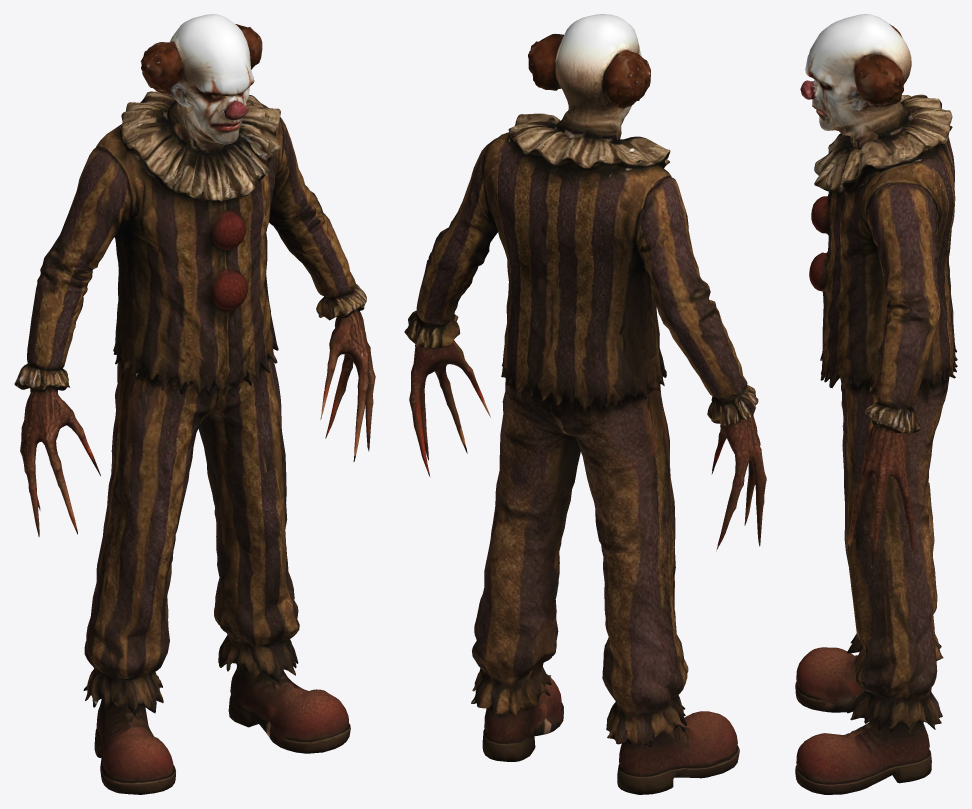
The model's file is Jocker.fbx.
3 renders of one model, left to right at view 1: azimuth 30°, elevation 25°; view 2: azimuth 150°, elevation 25°; view 3: azimuth 270°, elevation 25°, orthographic.
Visible parts, largest first — view 1: jocker; view 2: jocker; view 3: jocker.
Boxes of the visible parts, box(x1,y1,x2,y2) form: jocker: box(14, 14, 375, 794); jocker: box(404, 14, 766, 794); jocker: box(795, 14, 957, 794).
Size of the model in its own units: 50.13 by 99.97 by 20.46.
1 material, 1 textured.
